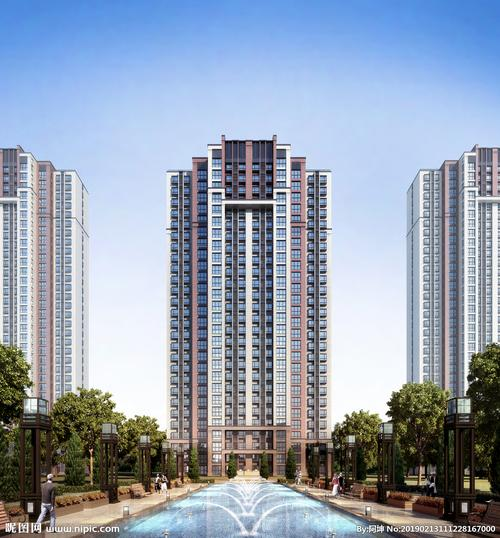buildings: (142, 121, 351, 472), (2, 141, 105, 419), (395, 136, 493, 395)
